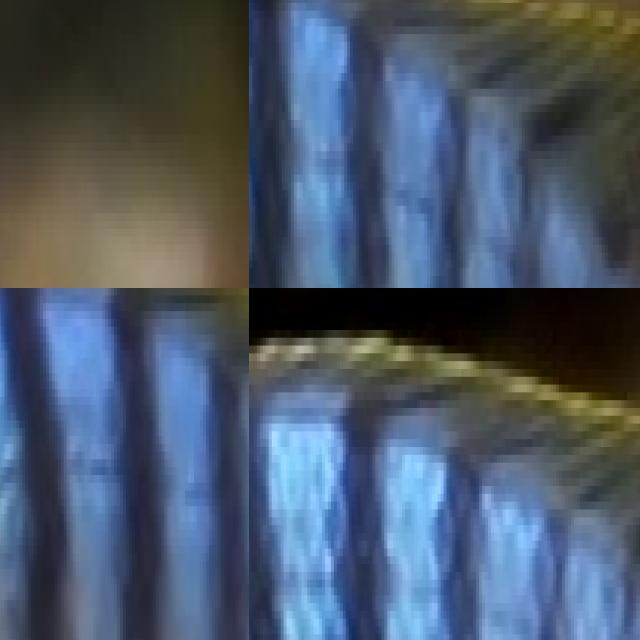fish: (0, 0, 249, 288), (249, 288, 640, 361)
